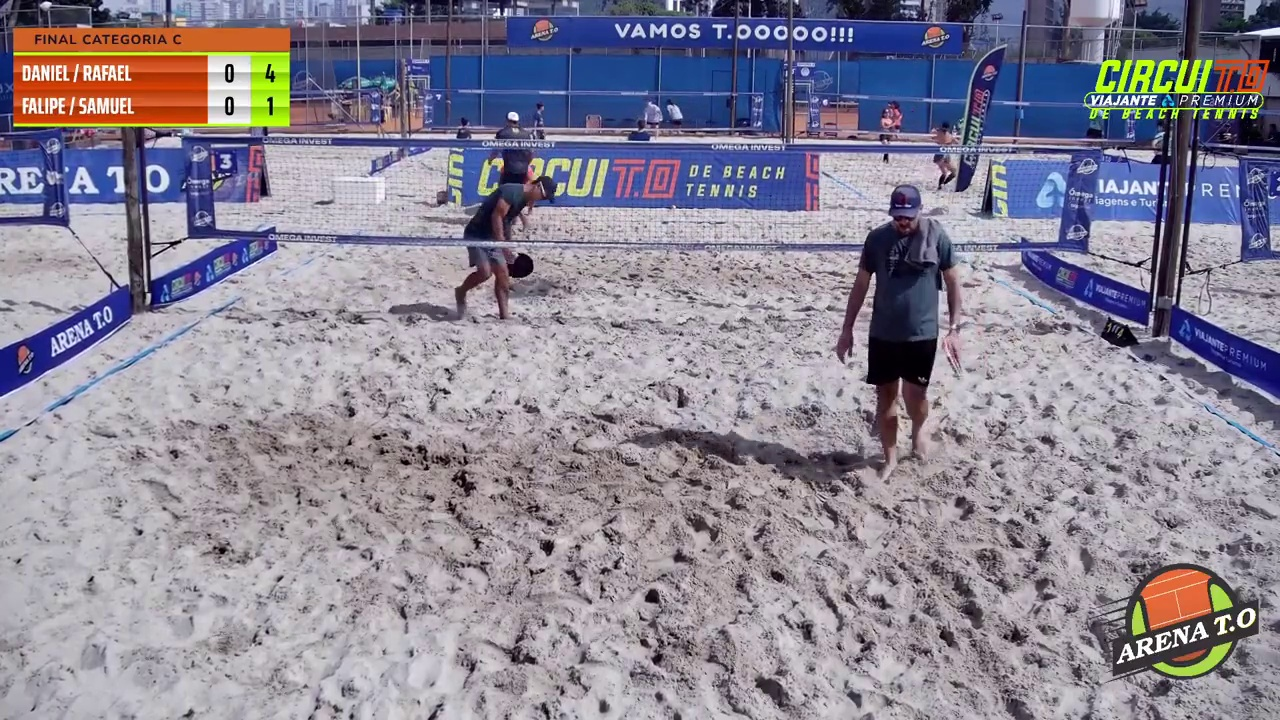court_line: (371, 0, 572, 513), (539, 0, 674, 382)
